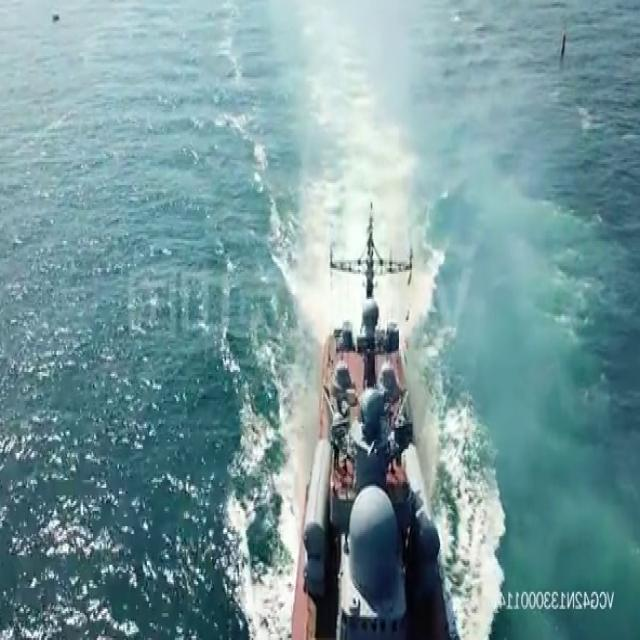navalvessels: (296, 189, 464, 640)
